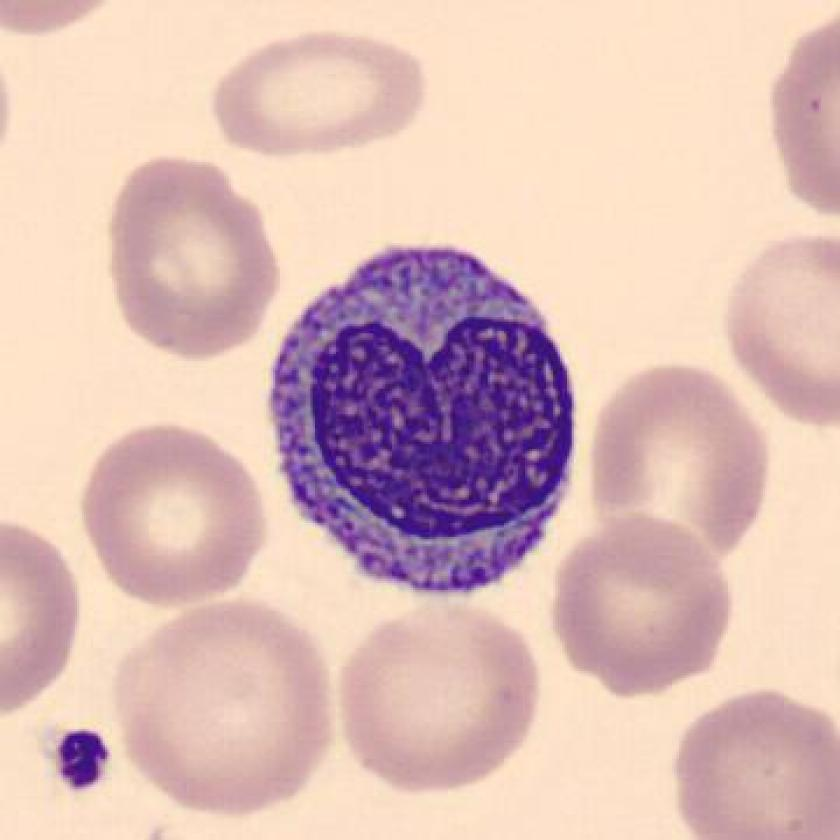monocyte: (253, 214, 610, 616)
